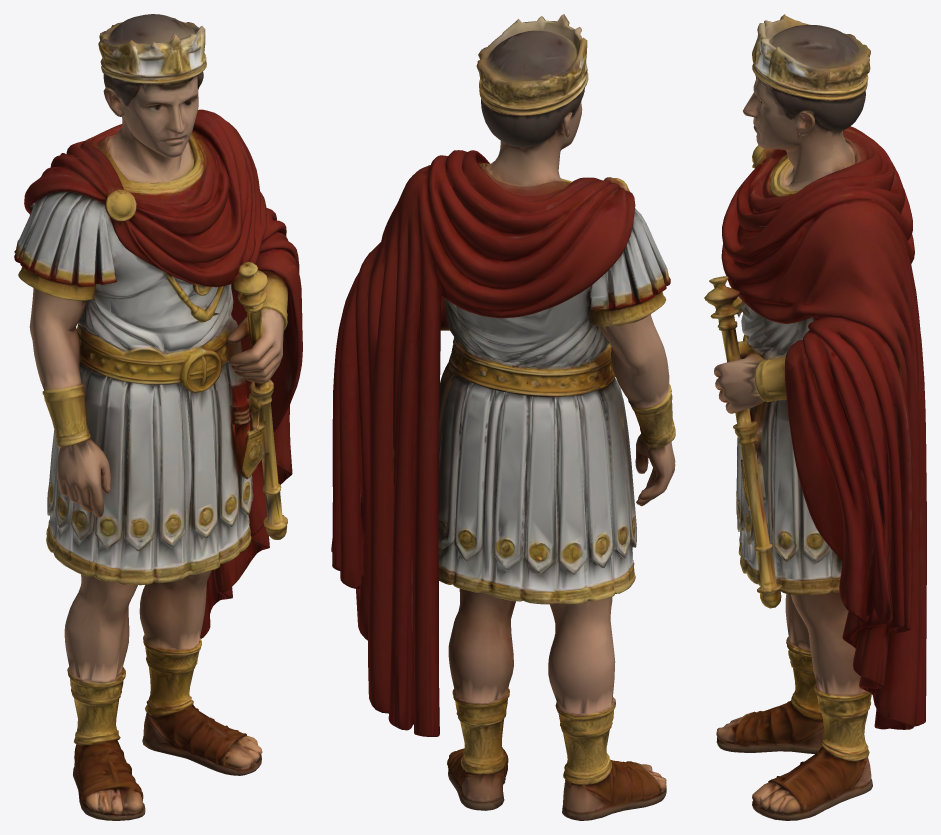
File: constantine.glb
The picture shows the model from 3 angles, left to right: view 1: azimuth 30°, elevation 25°; view 2: azimuth 150°, elevation 25°; view 3: azimuth 270°, elevation 25°; orthographic projection.
Parts seen in each view (by area): view 1: node_0; view 2: node_0; view 3: node_0.
Part boxes in pixels (x1=…): node_0: x1=14, y1=14, x2=302, y2=820; node_0: x1=331, y1=14, x2=675, y2=820; node_0: x1=704, y1=14, x2=926, y2=820.
Bounding box in the file's own units: 0.4525 × 1.13 × 0.3041.
1 material, 1 textured.
